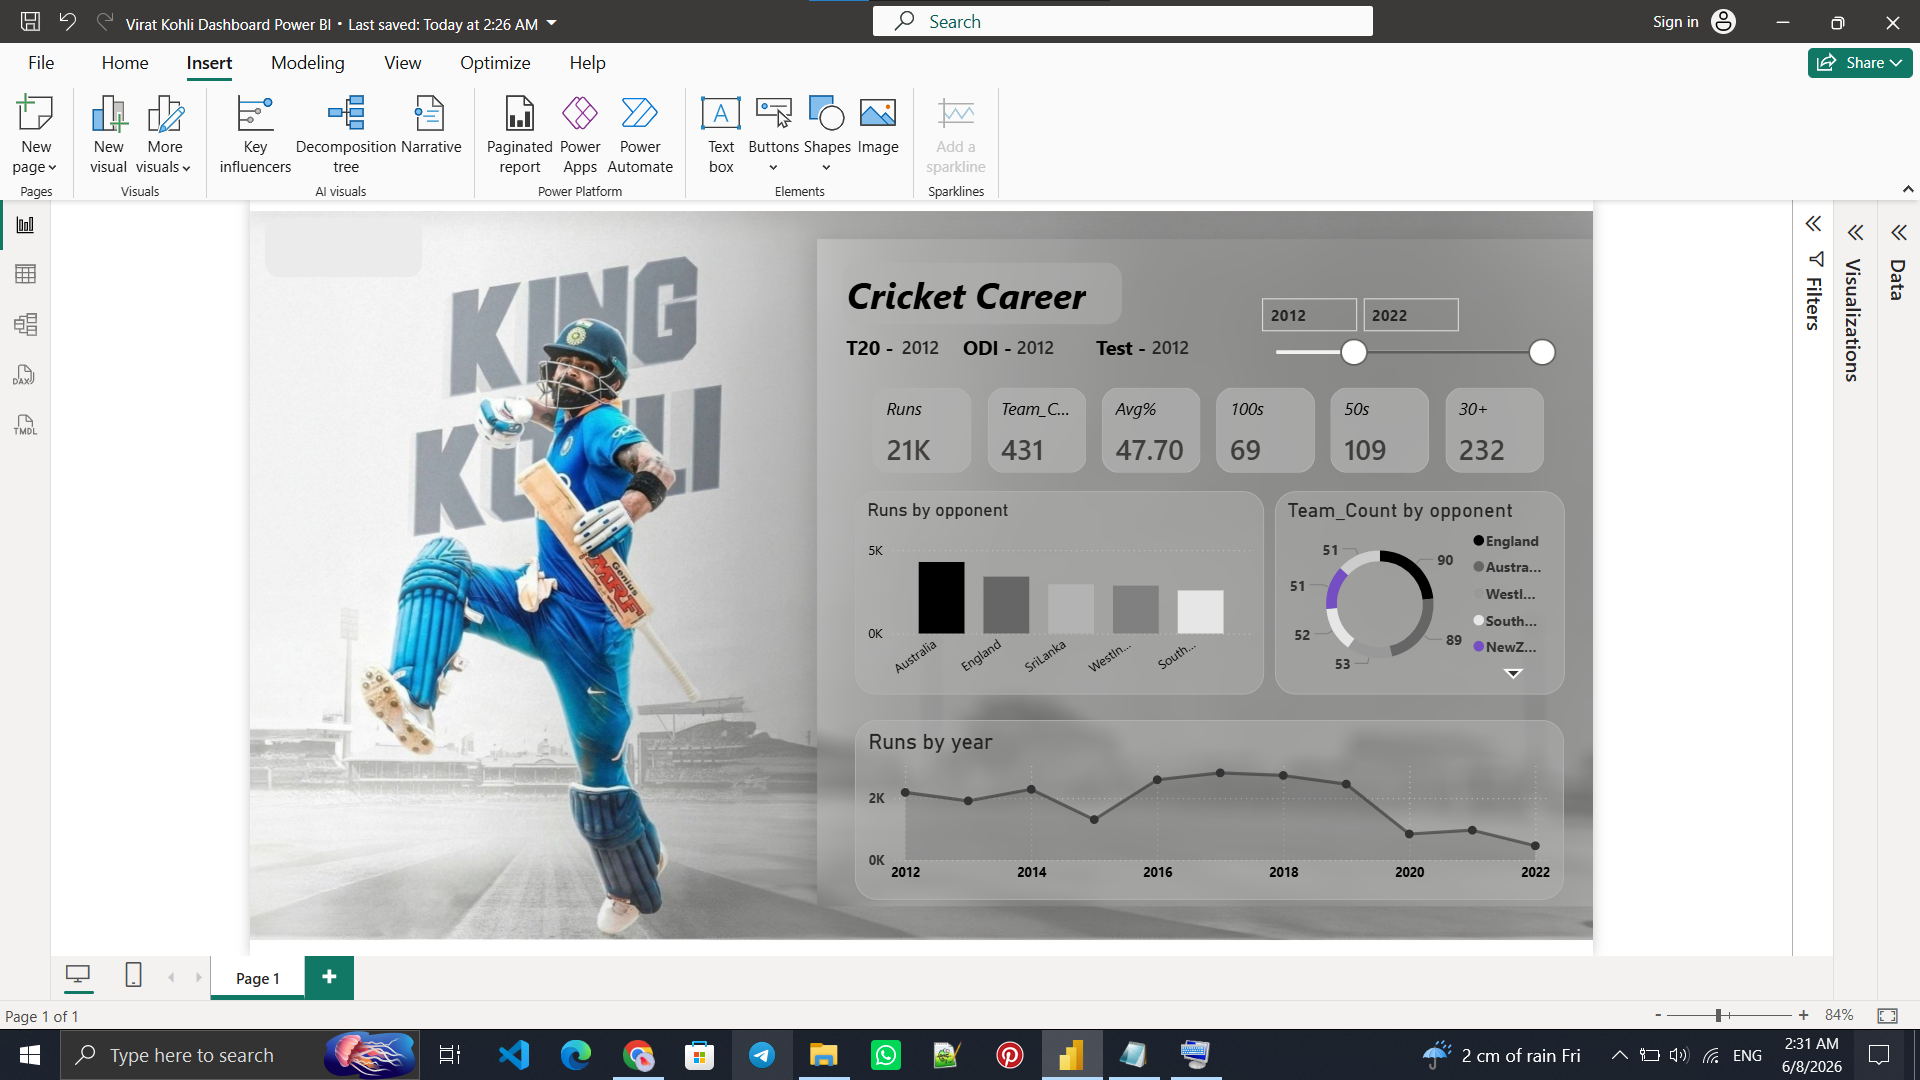

Layout of this report page (visuals, bound fields, positions):
{"tool":"powerbi","page":{"name":"Page 1","canvas":[1280,720],"ordinal":0},"visuals":[{"type":"cardVisual","fields":{"Data":["Measures_Table.Runs","Measures_Table.Total_Matches","Measures_Table.Avg%","Measures_Table.100s","Measures_Table.50s","Measures_Table.30+"]},"box":[576.3,161.9,675.1,115.3],"z":0},{"type":"clusteredColumnChart","fields":{"Y":["Measures_Table.Runs"],"Category":["Virat_Kohli.opponent"]},"box":[576.3,277.2,389.7,193.5],"z":1000},{"type":"donutChart","fields":{"Category":["Virat_Kohli.opponent"],"Y":["Measures_Table.Team_Count"]},"box":[975.6,277.2,275.8,193.5],"z":2000},{"type":"stackedAreaChart","fields":{"Category":["Calender.year"],"Y":["Measures_Table.Runs"]},"box":[576.3,495.4,675.1,171.5],"z":3000},{"type":"slicer","fields":{"Values":["Calender.year"]},"box":[950.9,83.7,300.5,78.2],"z":4000},{"type":"cardVisual","fields":{"Data":["Measures_Table.T20_First_Match"]},"box":[591.4,111.1,96.1,56.3],"z":5000},{"type":"shape","box":[551.6,118,78.2,43.9],"z":6000},{"type":"shape","box":[662.8,118,78.2,43.9],"z":7000},{"type":"shape","box":[790.4,118,78.2,43.9],"z":8000},{"type":"cardVisual","fields":{"Data":["Measures_Table.ODI_First_Match"]},"box":[701.2,111.1,98.8,56.3],"z":8001},{"type":"cardVisual","fields":{"Data":["Measures_Table.Test_First_Match"]},"box":[830.2,111.1,98.8,56.3],"z":8002},{"type":"shape","box":[564,59,266.2,59],"z":8003},{"type":"shape","box":[14.3,16.7,150,57.1],"z":8004}]}

Visuals, with their boxes on the page's 1280x720 design canvas (x1, y1, x2, y2). These are canvas units, not pixel positions in the 1920x1080 screenshot, which may show the page scaled, cropped or inside an application window:
cardVisual - Measures_Table.Runs x Measures_Table.Total_Matches: region(576, 162, 1251, 277)
clusteredColumnChart - Measures_Table.Runs x Virat_Kohli.opponent: region(576, 277, 966, 471)
donutChart - Virat_Kohli.opponent x Measures_Table.Team_Count: region(976, 277, 1251, 471)
stackedAreaChart - Calender.year x Measures_Table.Runs: region(576, 495, 1251, 667)
slicer - Calender.year: region(951, 84, 1251, 162)
cardVisual - Measures_Table.T20_First_Match: region(591, 111, 688, 167)
shape: region(552, 118, 630, 162)
shape: region(663, 118, 741, 162)
shape: region(790, 118, 869, 162)
cardVisual - Measures_Table.ODI_First_Match: region(701, 111, 800, 167)
cardVisual - Measures_Table.Test_First_Match: region(830, 111, 929, 167)
shape: region(564, 59, 830, 118)
shape: region(14, 17, 164, 74)
